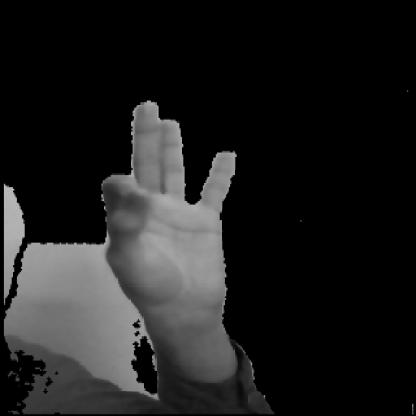ok: (68, 81, 265, 352)
